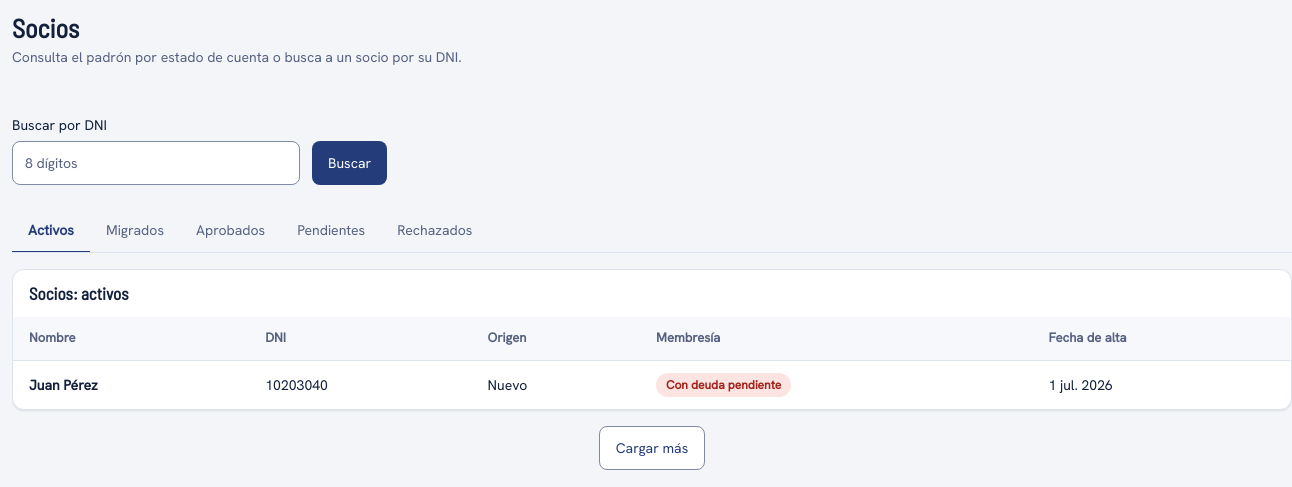
Test case: MembersManagementPage › carga más socios con el cursor de la página anterior
The image size is (1292, 487).
Expected: the text "Juan Pérez" is shown, [29, 376, 98, 394]
Click the button "Cargar más".
click(652, 448)  # box [599, 426, 705, 470]
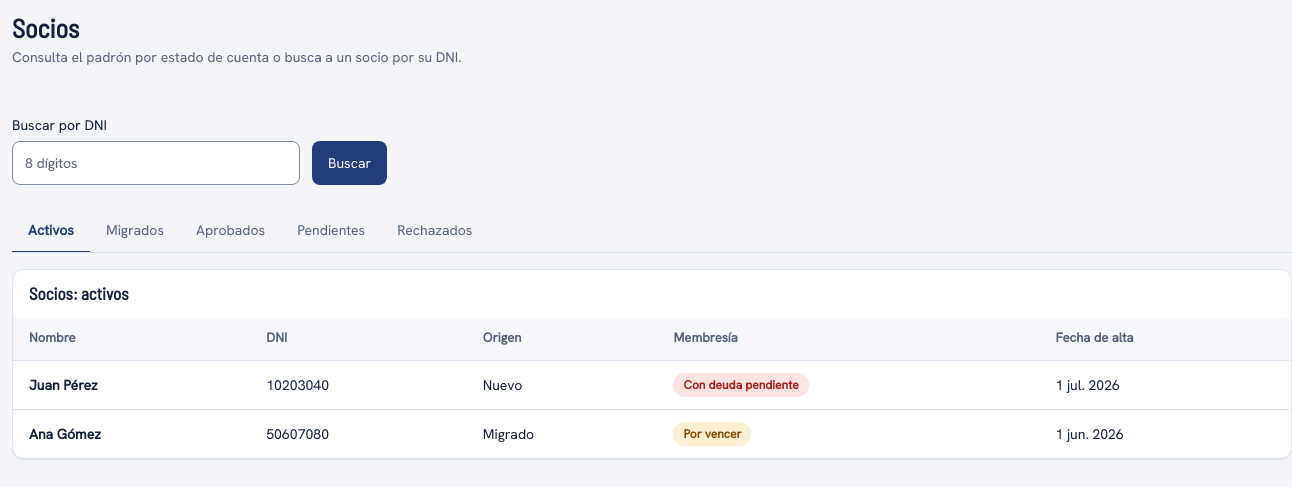
Expected: the text "Juan Pérez" is shown, [29, 376, 98, 394]
Expected: the text "Ana Gómez" is shown, [29, 425, 101, 443]
Expected: the button "Cargar más" is gone
